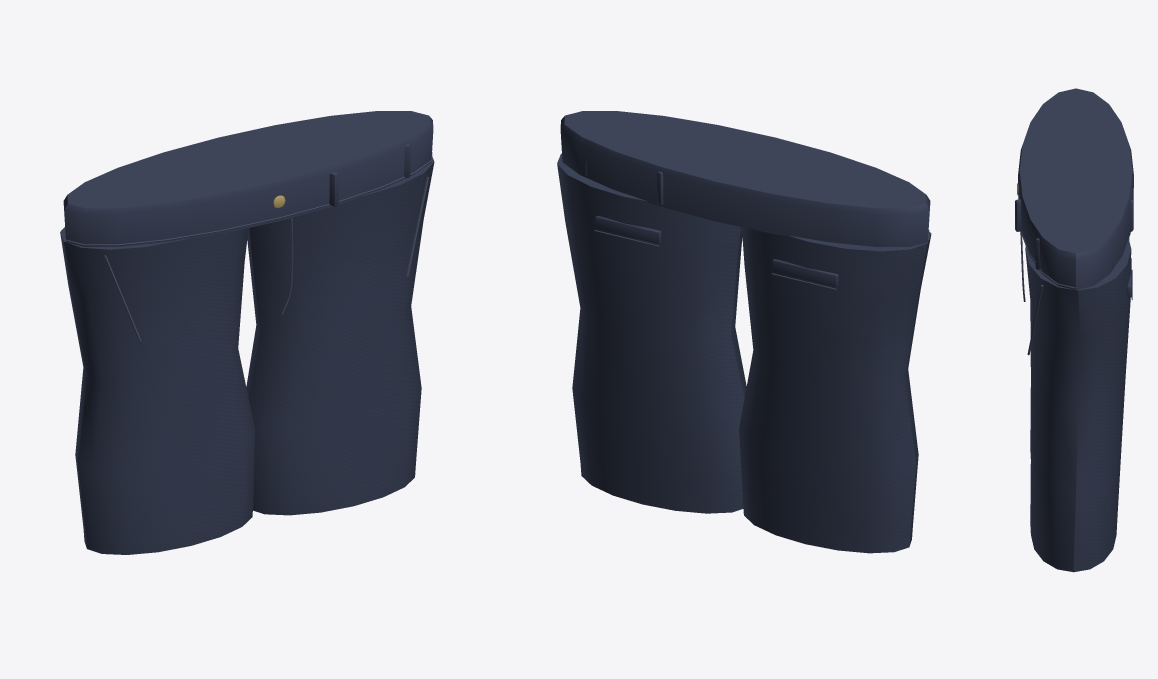
The model's file is pf_shorts_hanging.glb.
3 renders of one model, left to right at view 1: azimuth 30°, elevation 25°; view 2: azimuth 150°, elevation 25°; view 3: azimuth 270°, elevation 25°, orthographic. The views are drawn at different scales.
Visible parts, largest first — view 1: pf_shorts_hanging_body; view 2: pf_shorts_hanging_body; view 3: pf_shorts_hanging_body.
Part boxes in pixels (bbox=[...]): pf_shorts_hanging_body: bbox=[60, 111, 434, 554]; pf_shorts_hanging_body: bbox=[557, 111, 931, 553]; pf_shorts_hanging_body: bbox=[1015, 88, 1133, 572].
Bounding box in the file's own units: 0.38 × 0.46 × 0.12.
Materials: 4 (1 with a texture image).
